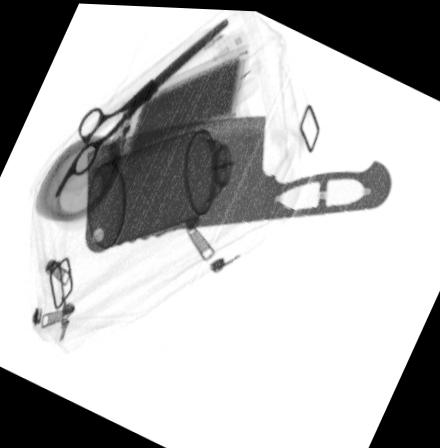Knife: (84, 109, 392, 252)
Powerbank: (125, 44, 252, 157)
Scissors: (53, 12, 231, 198)
Sprayer: (89, 119, 259, 248)
